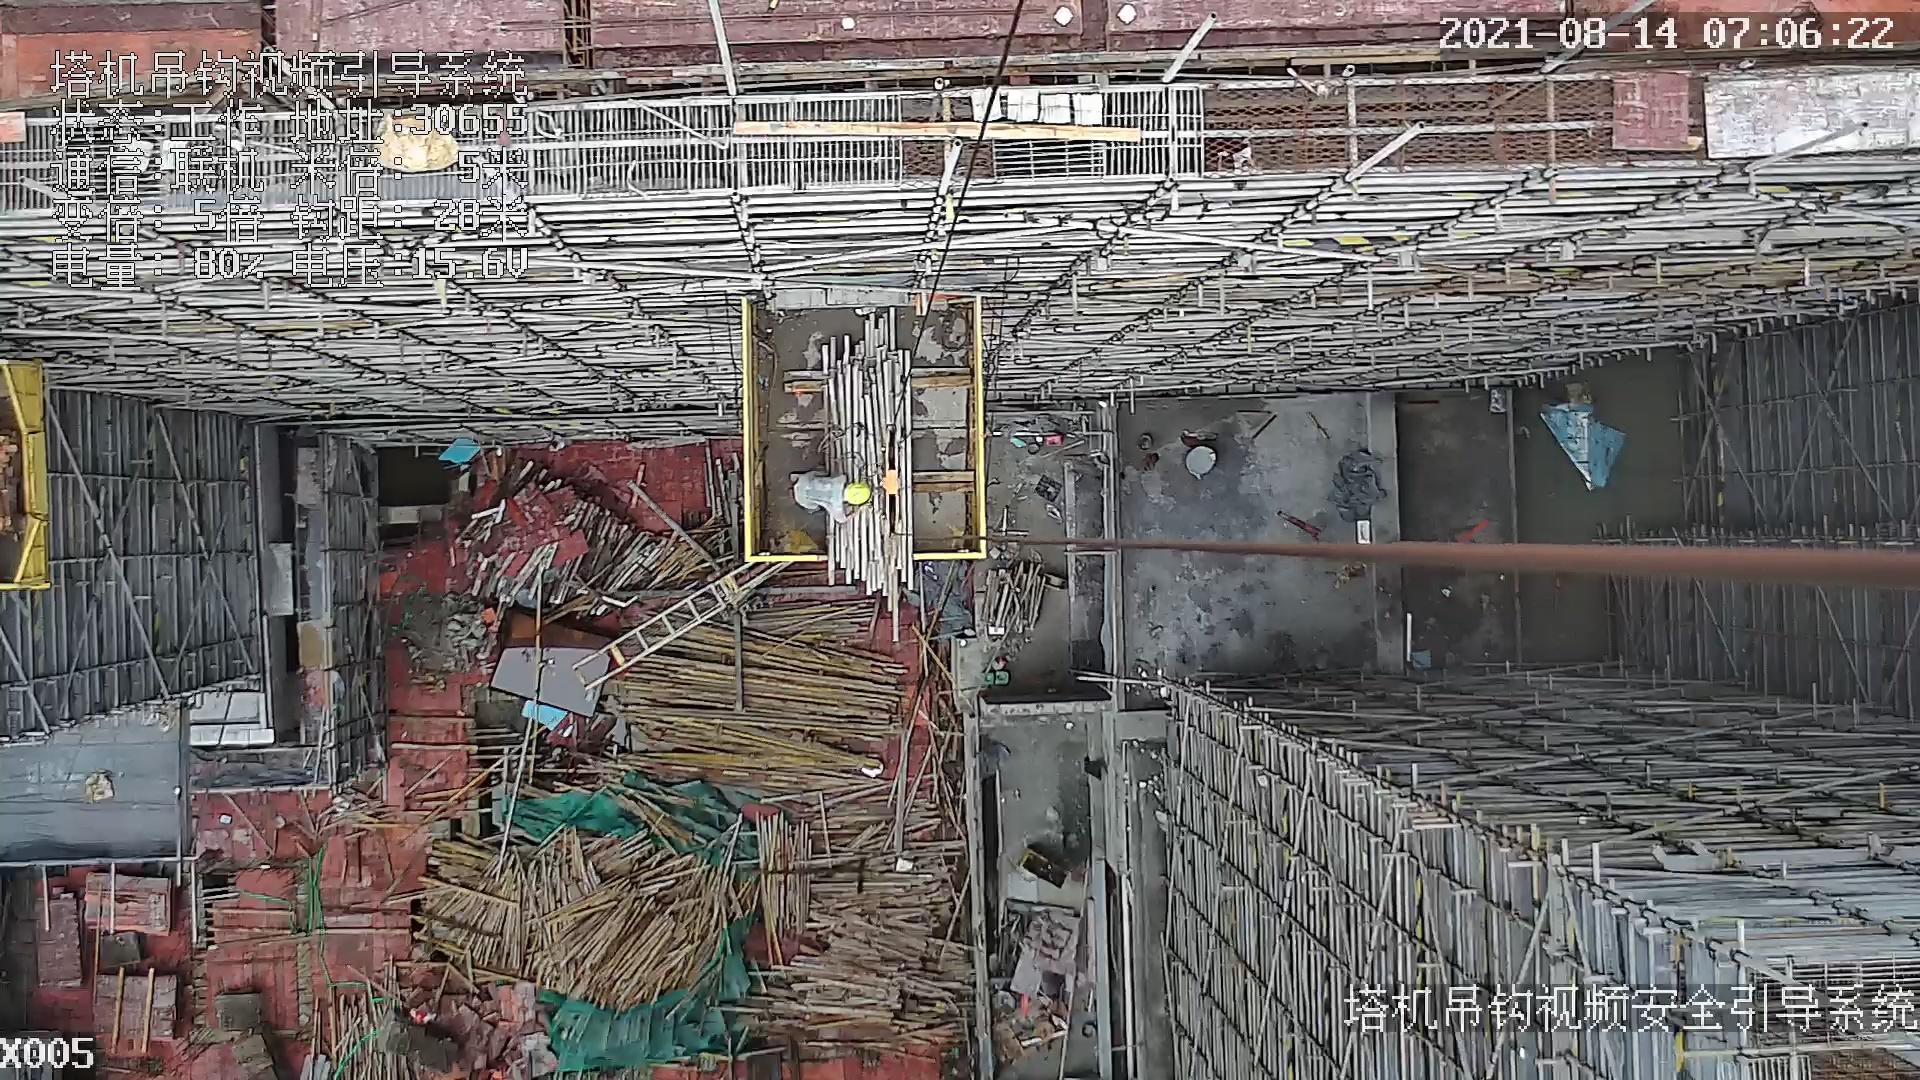helmet: (844, 480, 872, 505)
hook: (879, 421, 910, 546)
person: (796, 471, 872, 524)
